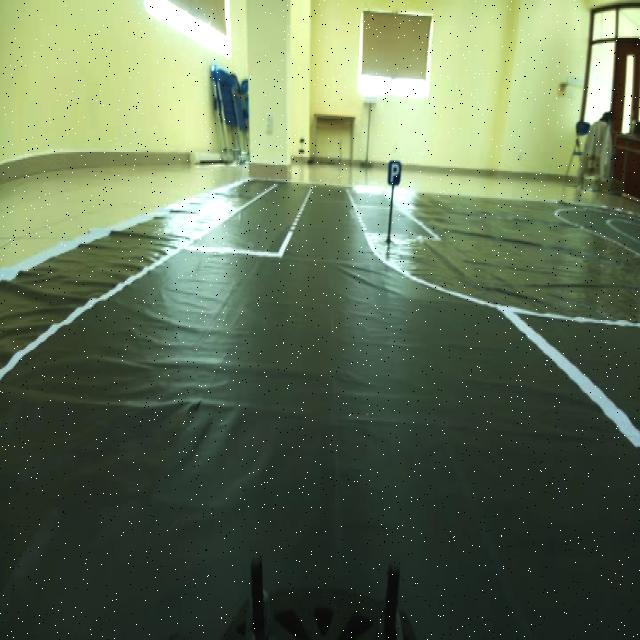parking: (383, 152, 406, 192)
